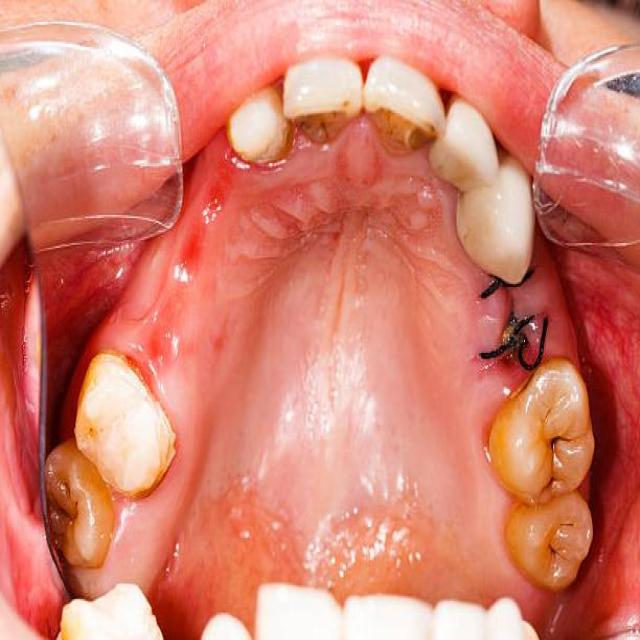caries: (364, 91, 442, 169), (294, 93, 354, 151), (46, 471, 87, 545), (536, 420, 585, 460), (541, 514, 576, 562), (535, 461, 569, 501)
